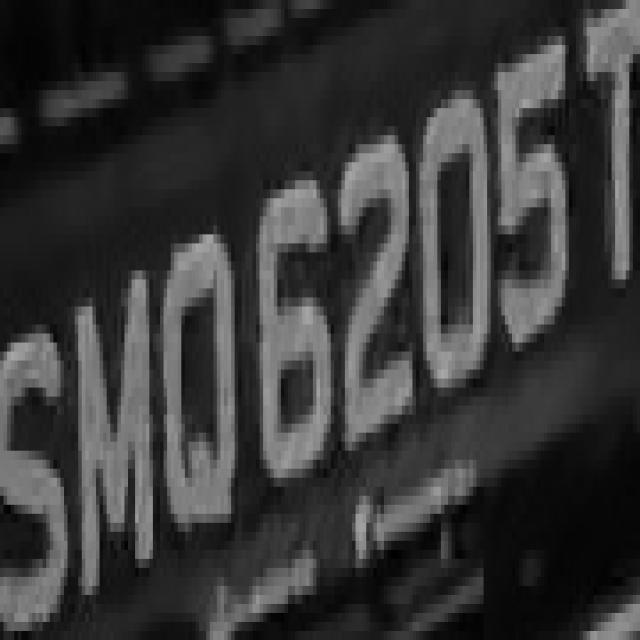0: (412, 72, 494, 406)
2: (327, 126, 420, 460)
5: (487, 45, 565, 379)
6: (245, 153, 331, 505)
M: (71, 252, 160, 604)
Q: (146, 207, 242, 568)
S: (4, 288, 78, 640)
T: (3, 0, 4, 4)
